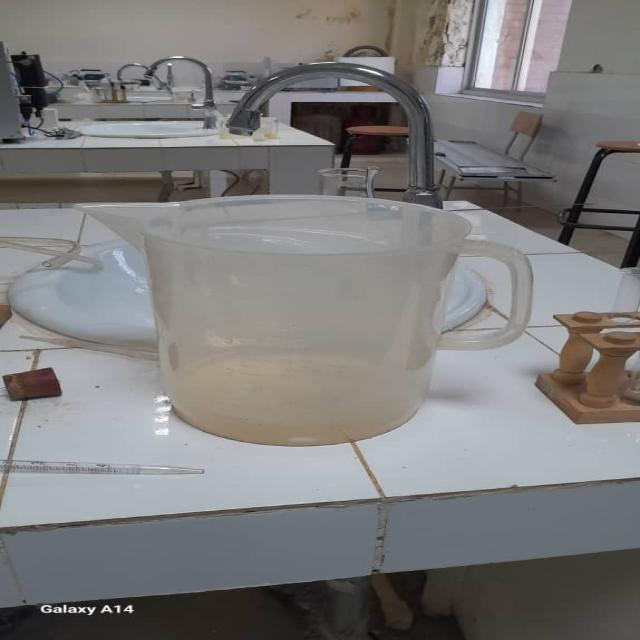Beakers: (51, 193, 549, 452)
